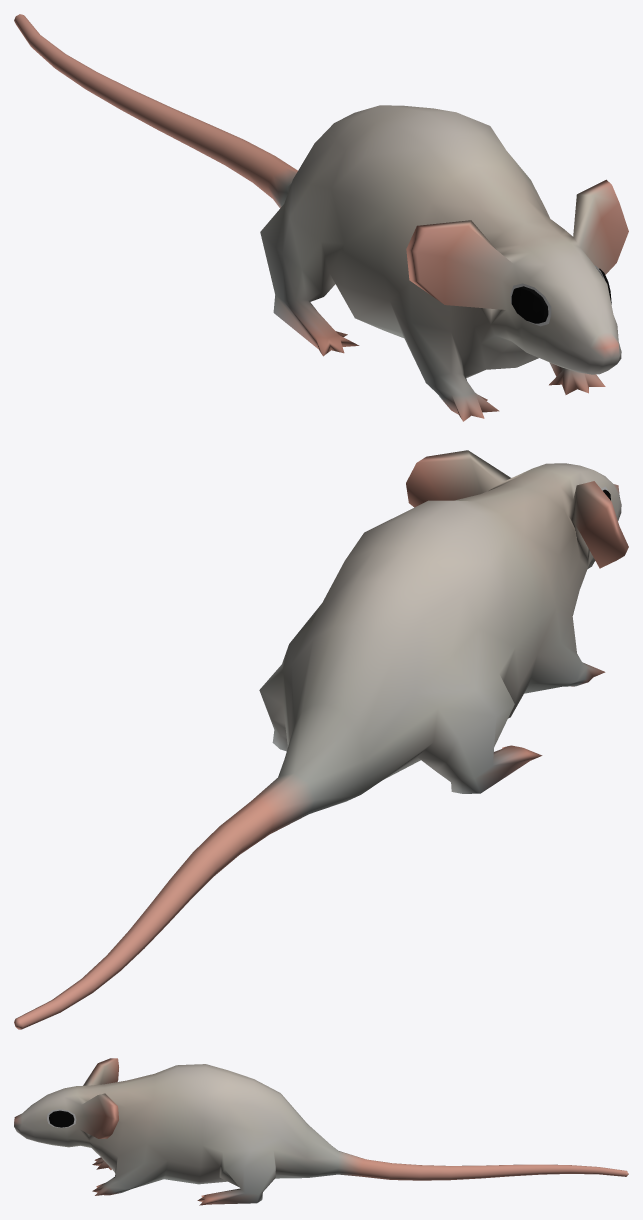
The model's file is mouse.glb.
The picture shows the model from 3 angles, top to bottom: view 1: azimuth 30°, elevation 25°; view 2: azimuth 150°, elevation 25°; view 3: azimuth 270°, elevation 25°; orthographic projection. The views are drawn at different scales.
Visible parts, largest first — view 1: base.072; view 2: base.072; view 3: base.072.
Part boxes in pixels (box(x1,y1,x2,y2)): base.072: box(14, 14, 628, 421); base.072: box(14, 450, 628, 1029); base.072: box(14, 1058, 628, 1205).
Size of the model in its own units: 0.217 by 0.2013 by 1.02.
